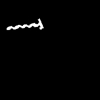half_double_crochet: (7, 19, 42, 29)
